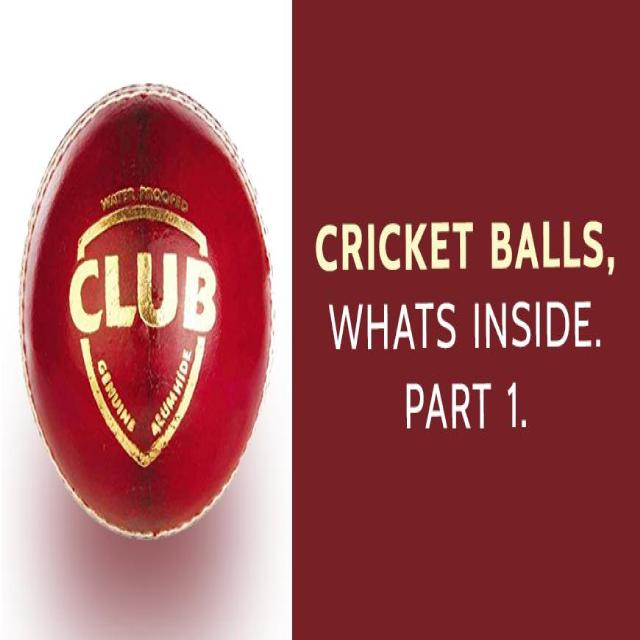ball: (22, 78, 274, 541)
